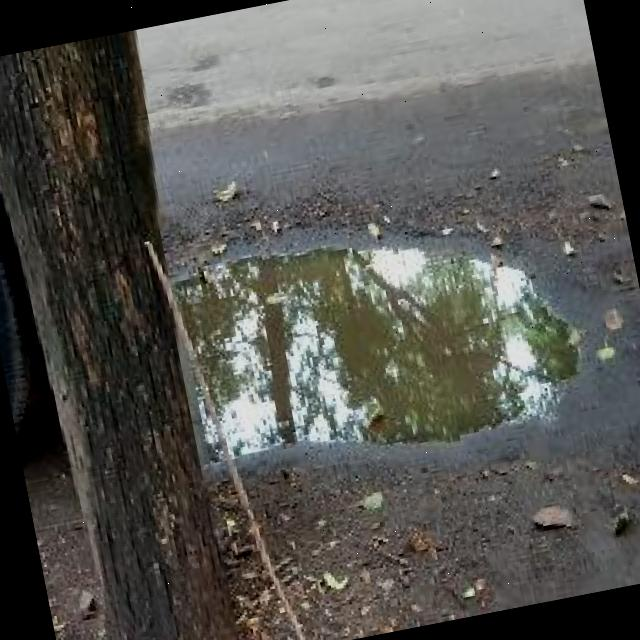stagnation: (162, 132, 608, 534)
